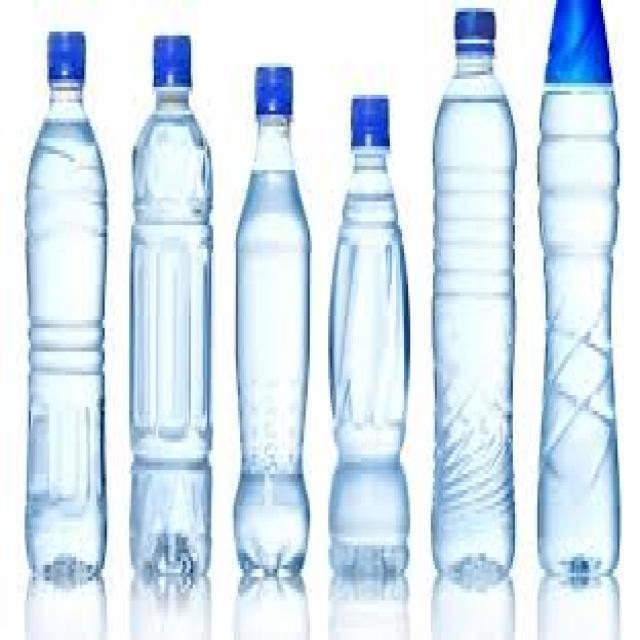Plastic: (535, 0, 621, 587), (430, 8, 517, 586), (22, 27, 110, 590), (132, 34, 212, 593), (234, 65, 313, 600), (328, 100, 412, 590)
